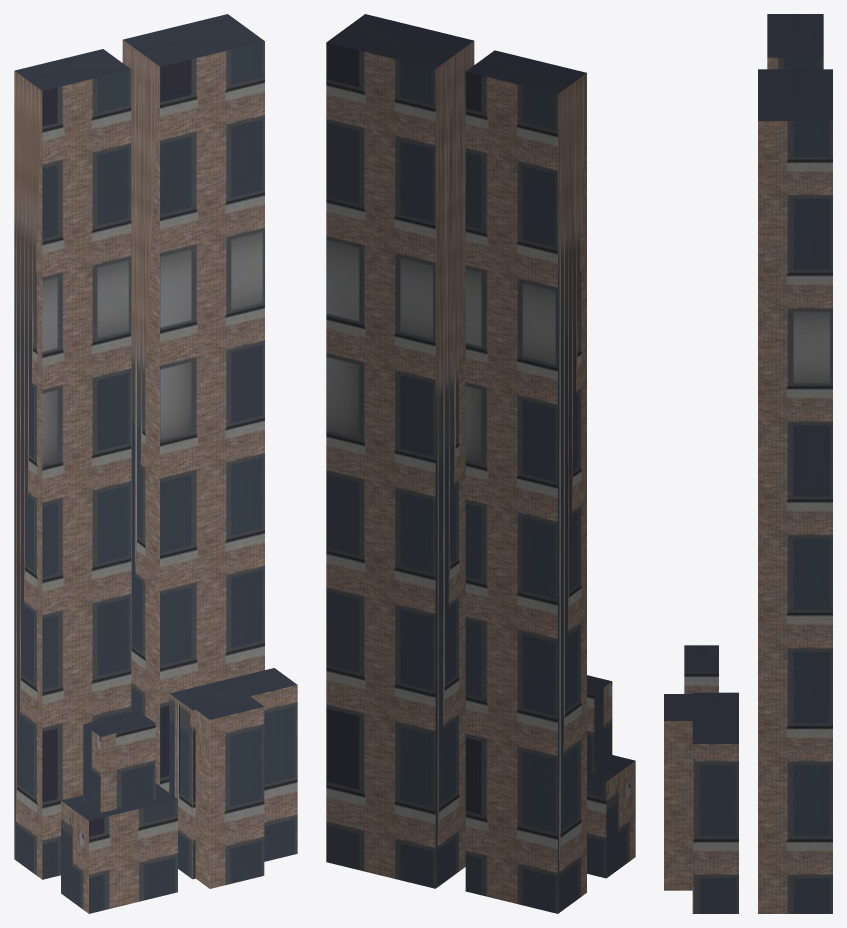
The model's file is city_block_12345_6_07.glb.
3 views of the same model, side by side, from view 1: azimuth 30°, elevation 25°; view 2: azimuth 150°, elevation 25°; view 3: azimuth 270°, elevation 25° (orthographic). The views are drawn at different scales.
Parts seen in each view (by area): view 1: block_07; view 2: block_07; view 3: block_07.
Part boxes in pixels (bbox=[...]): block_07: bbox=[14, 14, 297, 913]; block_07: bbox=[326, 14, 635, 913]; block_07: bbox=[664, 14, 832, 913].
Size of the model in its own units: 4.05 by 14 by 2.7.
Materials: 4 (4 with a texture image).
